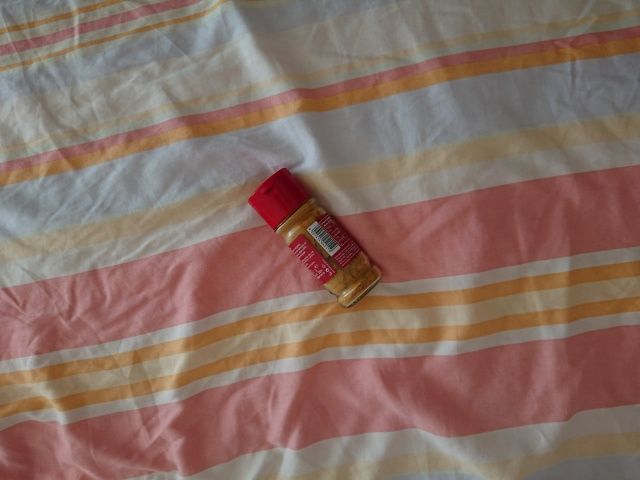Kotanyi Curry Spices Mix 70g: (245, 164, 385, 311)
